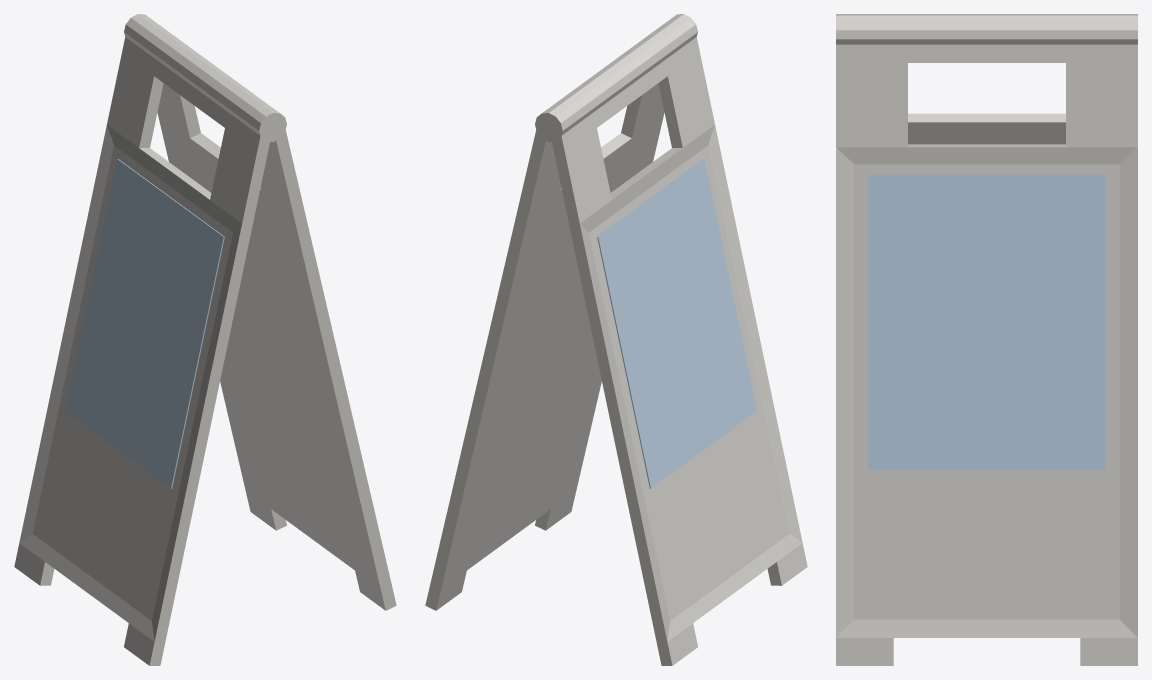
The model's file is WetFloorSign.fbx.
3 views of the same model, side by side, from view 1: azimuth 30°, elevation 25°; view 2: azimuth 150°, elevation 25°; view 3: azimuth 270°, elevation 25° (orthographic). The views are drawn at different scales.
Parts seen in each view (by area): view 1: WetFloorSign; view 2: WetFloorSign; view 3: WetFloorSign.
Boxes of the visible parts, x1=… form: WetFloorSign: x1=14, y1=14, x2=396, y2=665; WetFloorSign: x1=425, y1=14, x2=807, y2=665; WetFloorSign: x1=836, y1=14, x2=1137, y2=665.
Size of the model in its own units: 0.443 by 0.9 by 0.42.
